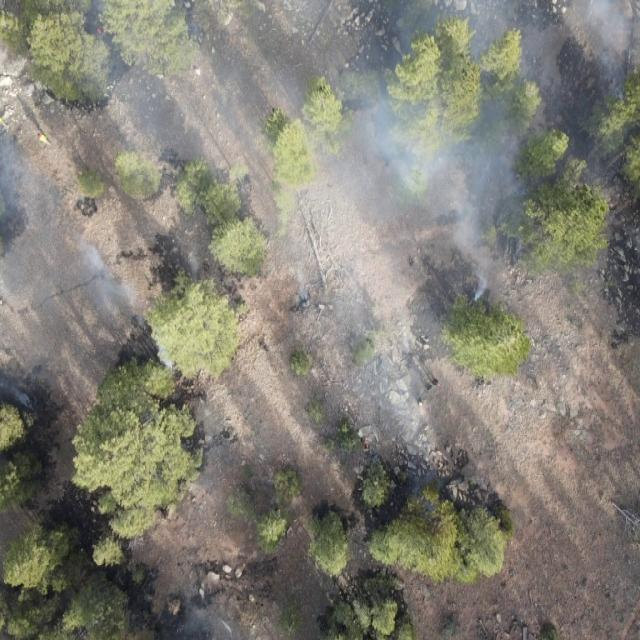fire: (90, 22, 107, 40)
smoke: (77, 0, 640, 148), (176, 146, 535, 329), (0, 124, 144, 365), (317, 324, 458, 474), (172, 587, 244, 640)
